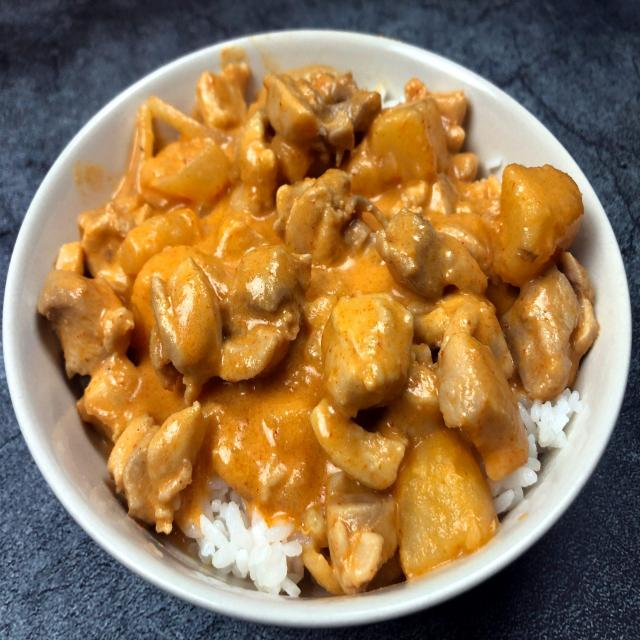roti: (39, 89, 590, 548)
